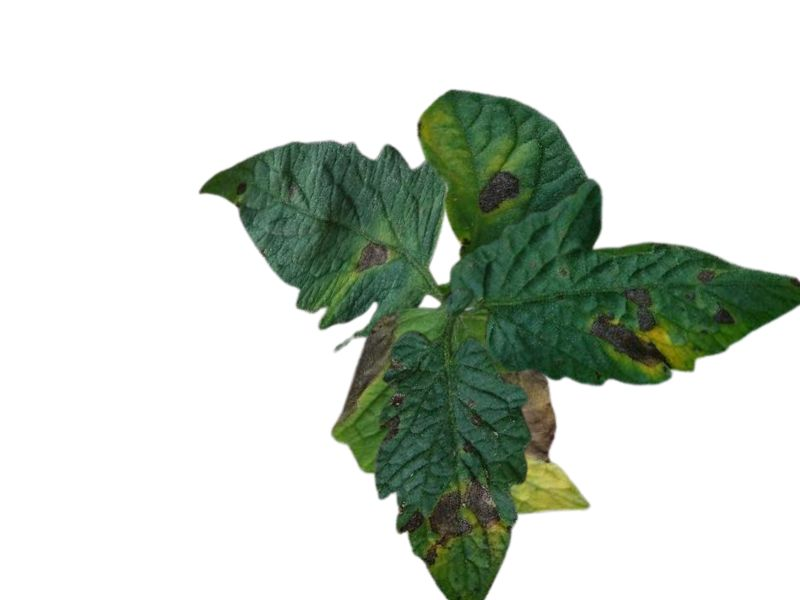Early_blight: (588, 286, 673, 370), (333, 312, 396, 425), (421, 480, 500, 568), (499, 367, 557, 463), (477, 170, 519, 216), (351, 236, 391, 272), (383, 393, 403, 443), (396, 510, 424, 538), (708, 307, 735, 326), (696, 266, 715, 283), (235, 178, 248, 196)
